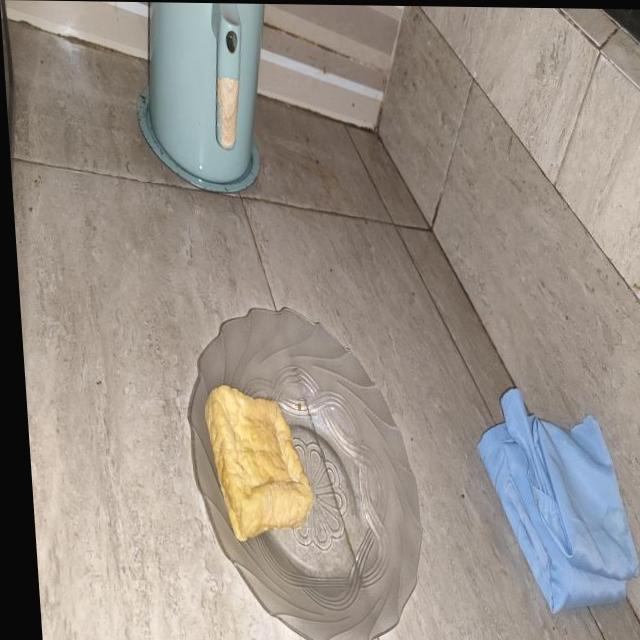tahu_goreng: (205, 386, 314, 540)
